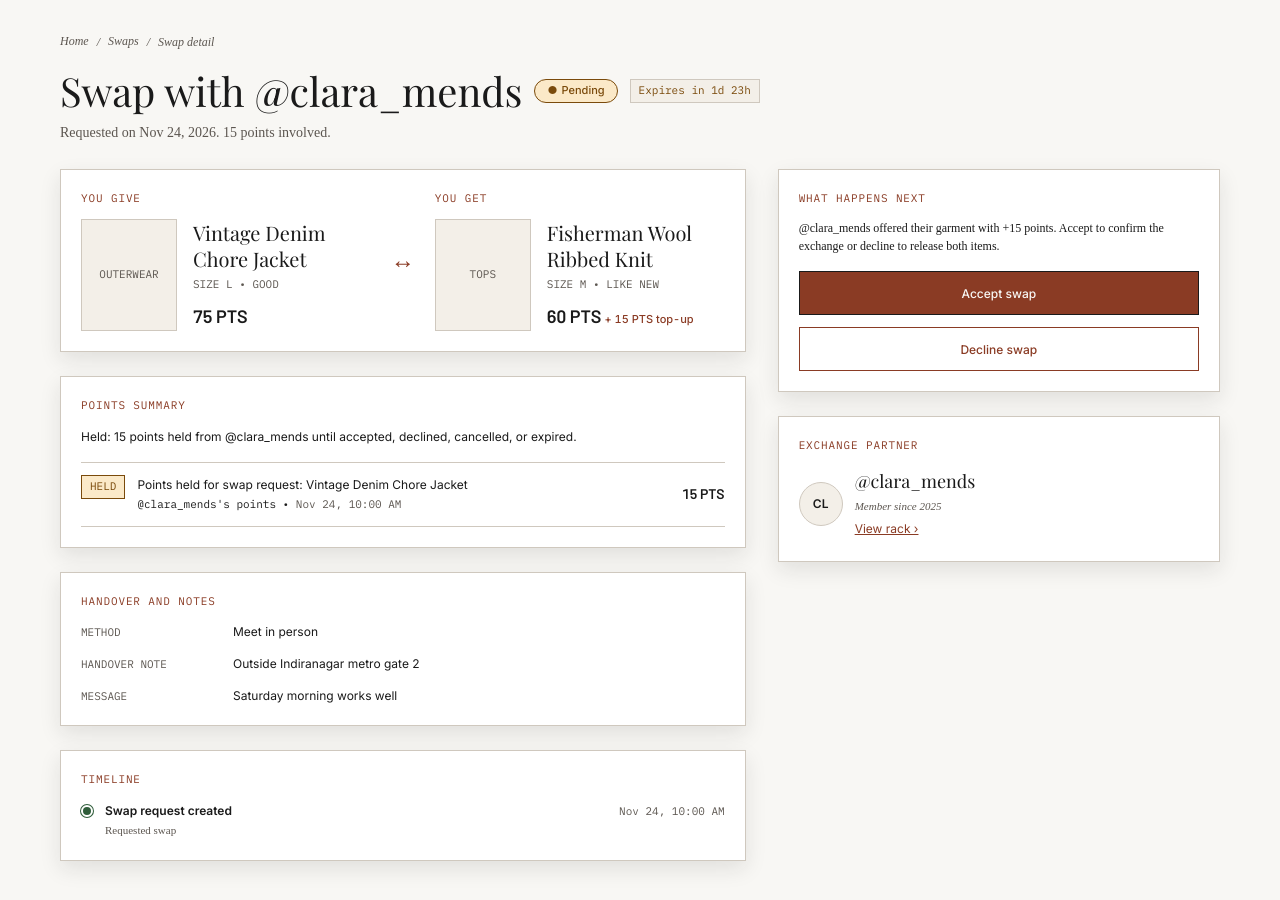
Test case: SwapDetailPage role and state actions › shows Accept and Decline with optional reason for item owner on pending swap and syncs points after decline
The image size is (1280, 900).
Expected: the button "Accept swap" is shown, [799,271,1199,315]
Expected: the text "Expires in 1d 23h" is shown, [630,79,760,103]
Click the button "Decline swap": {"x": 999, "y": 349} [799,327,1199,371]
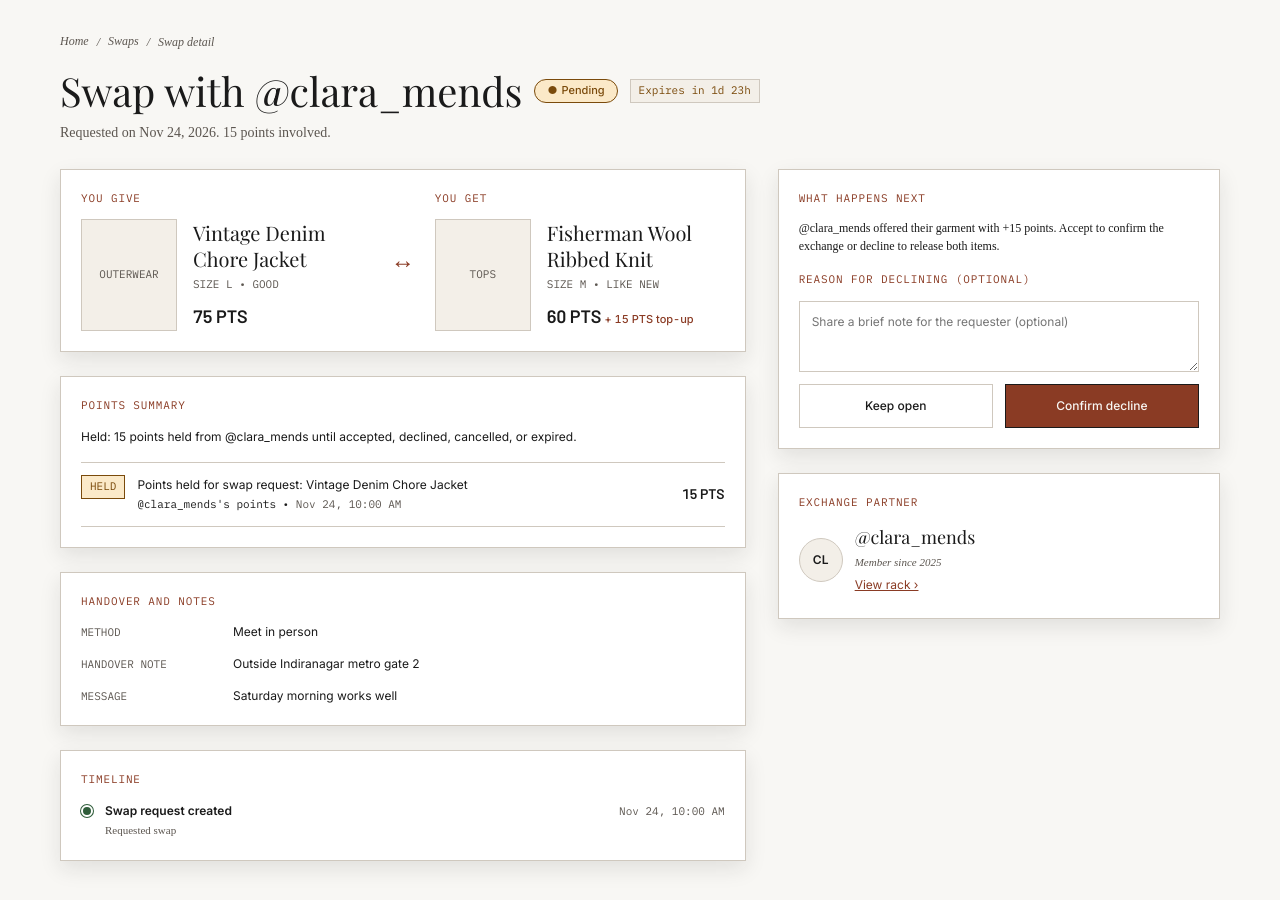
In the text box labelled "REASON FOR DECLINING (OPTIONAL)": {"x": 999, "y": 336} [799,301,1199,372], type "Sized too small for me"
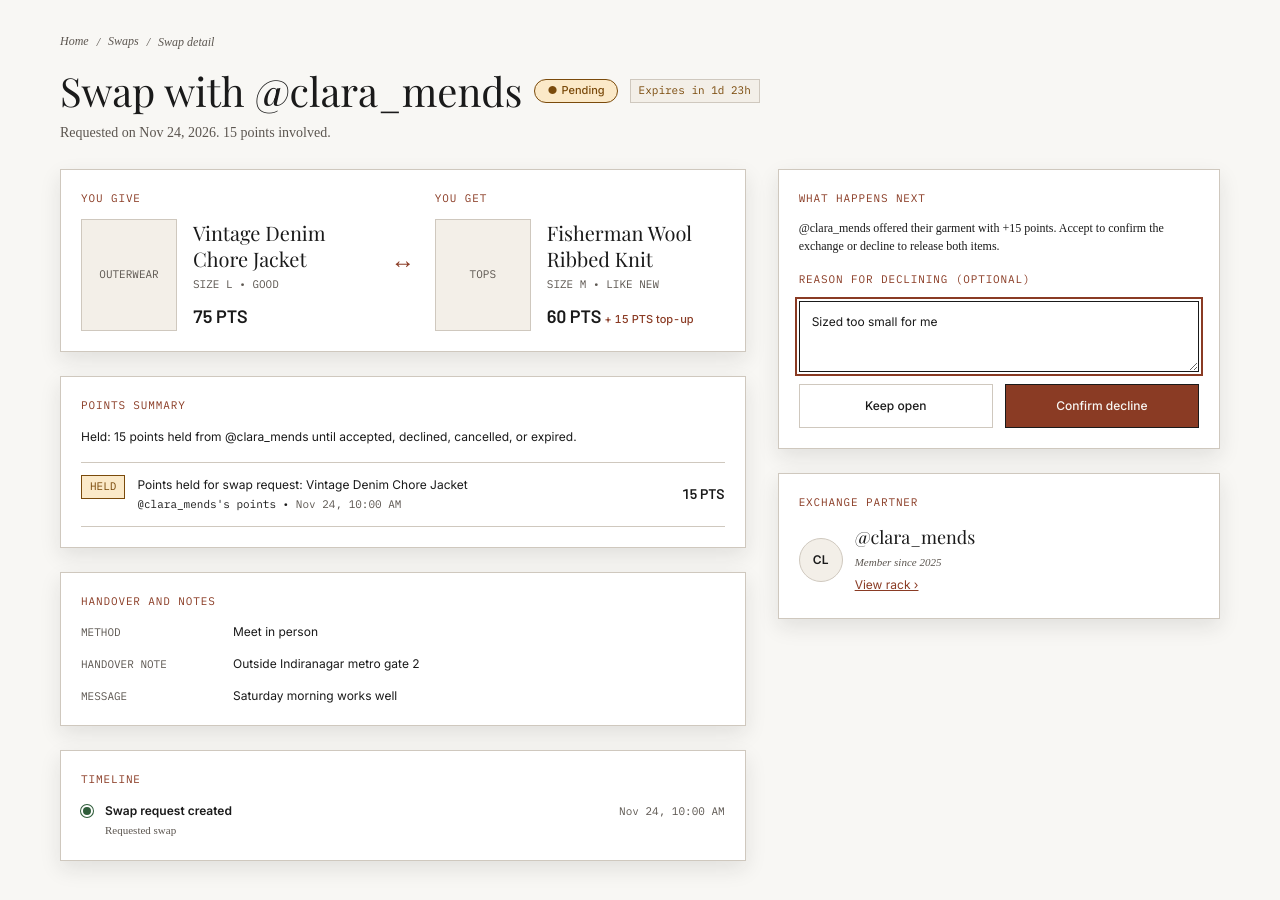
Click the button "Confirm decline": {"x": 1102, "y": 406} [1005,384,1199,428]
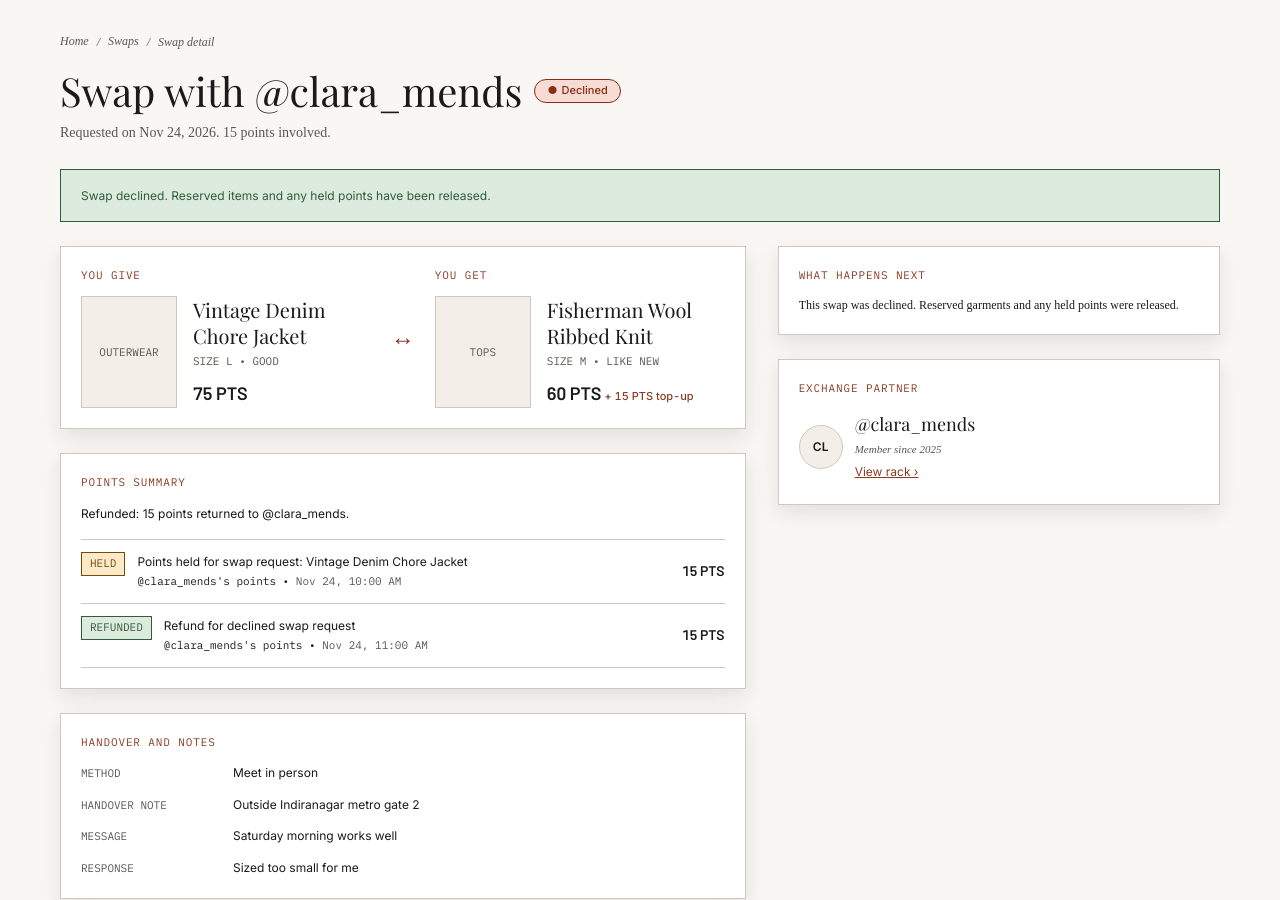
Expected: the button "Accept swap" is not shown
Result: the text "Declined" is shown at [562,82,608,100]
